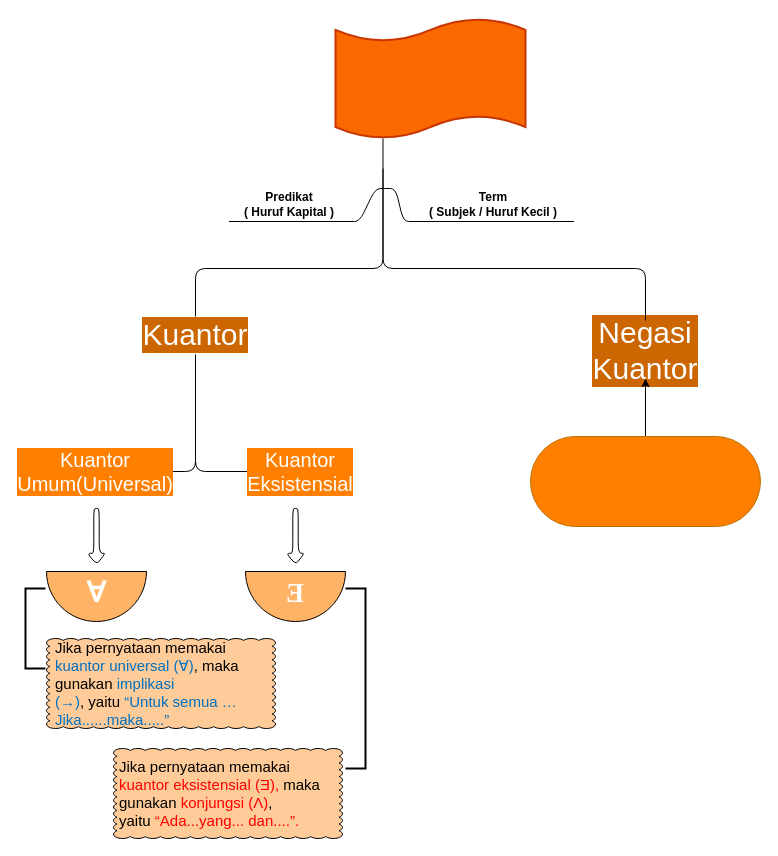
The diagram is 778 pixels wide and 856 high, and some of its shapes have lost their labels. The box of each missing label's shape, as (x1, y1, x2, y2) in pixels:
Logika Predikat: (334, 17, 526, 139)
Merubah ∀ menjadi Ǝ Merubah Ǝ menjadi ∀ Merubah P menjadi ~P: (530, 436, 760, 526)
